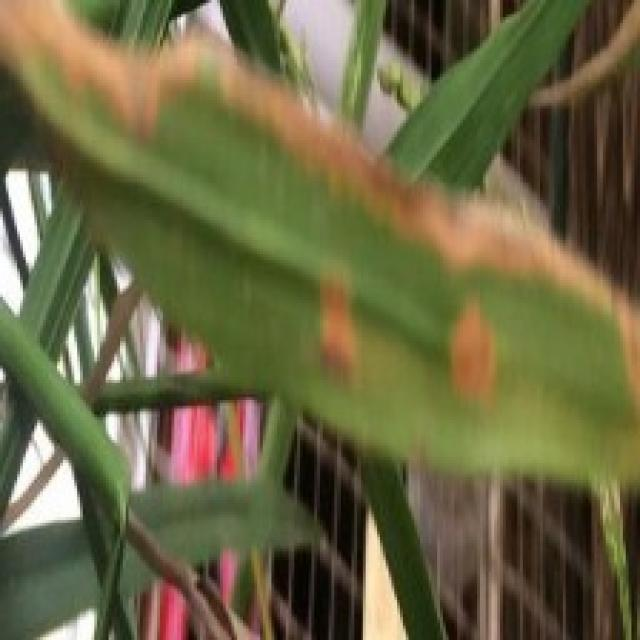Rice___Bacterial_Leaf_Blight: (0, 0, 637, 486)
